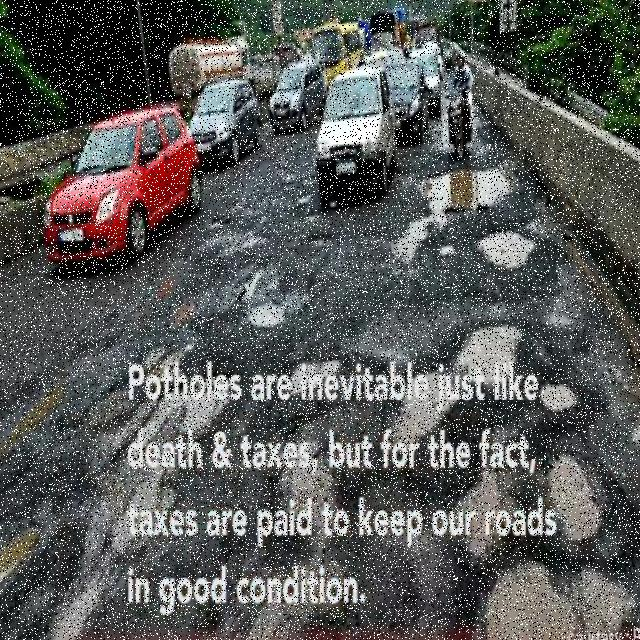pothole: (51, 333, 234, 640), (447, 428, 640, 640), (235, 351, 336, 640), (392, 319, 526, 435), (387, 165, 522, 261), (0, 383, 79, 441), (196, 210, 269, 257), (473, 229, 546, 273), (0, 533, 52, 585), (250, 301, 298, 349), (221, 257, 270, 304), (538, 383, 589, 419)
